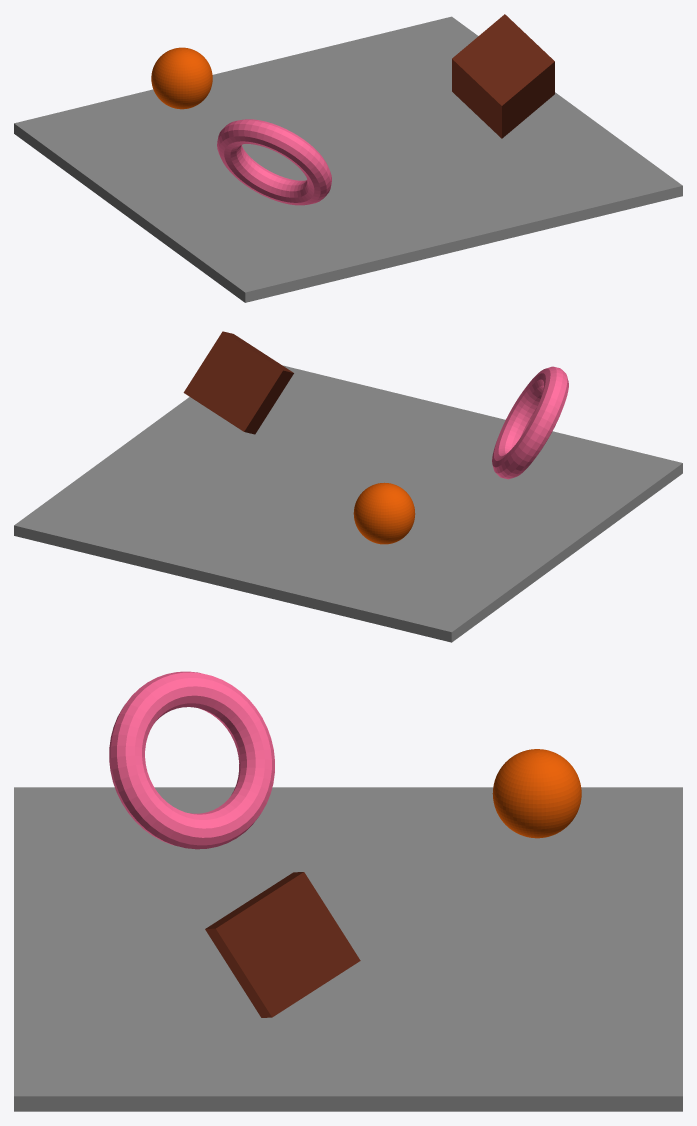
Rendered from platform_test2.obj.
3 views of the same model, one above another, from view 1: azimuth 30°, elevation 25°; view 2: azimuth 150°, elevation 25°; view 3: azimuth 270°, elevation 25° (orthographic). The views are drawn at different scales.
Visible parts, largest first — view 1: Cube, Cube.001; view 2: Cube, Cube.001; view 3: Cube, Cube.001.
Part boxes in pixels (x1,y1,x2,y2): Cube: [14, 16, 682, 302]; Cube.001: [452, 14, 554, 138]; Cube: [14, 365, 682, 642]; Cube.001: [183, 331, 293, 434]; Cube: [14, 671, 682, 1111]; Cube.001: [205, 872, 360, 1017].
Size of the model in its own units: 13.86 by 3.86 by 12.68.
